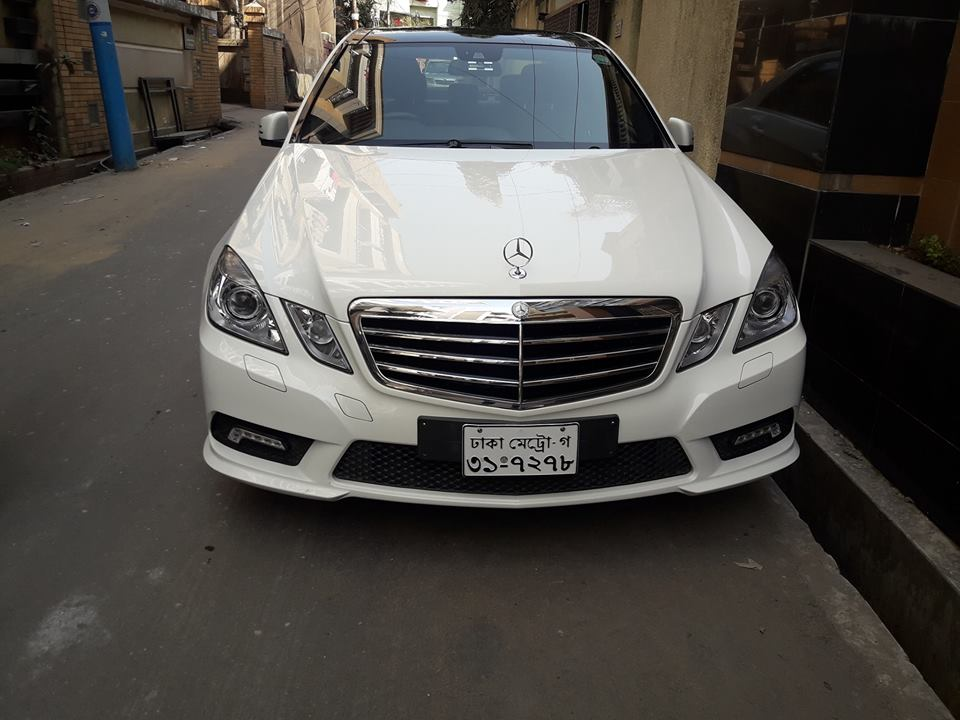registration_plate: (461, 421, 580, 477)
